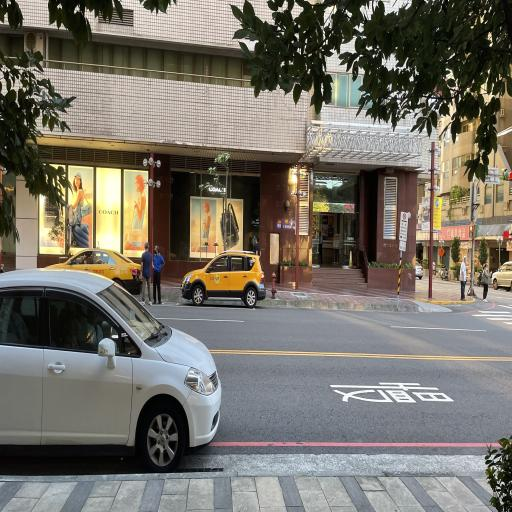MIU: (128, 376, 242, 473)
car: (0, 256, 224, 469), (177, 236, 271, 321)
redline: (199, 422, 512, 474)
